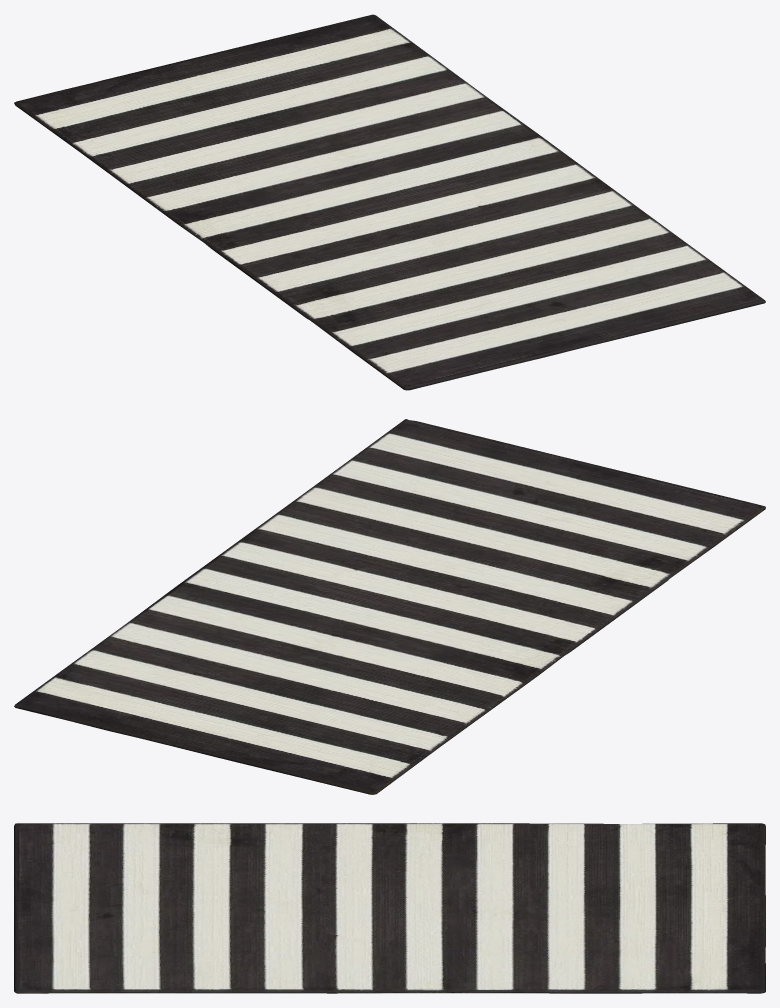
3 views of the same model, one above another, from view 1: azimuth 30°, elevation 25°; view 2: azimuth 150°, elevation 25°; view 3: azimuth 270°, elevation 25° (orthographic). The views are drawn at different scales.
Parts seen in each view (by area): view 1: ASY_ART_10597320_S01_NV01; view 2: ASY_ART_10597320_S01_NV01; view 3: ASY_ART_10597320_S01_NV01.
Part boxes in pixels (x1=…): ASY_ART_10597320_S01_NV01: x1=14, y1=14, x2=765, y2=390; ASY_ART_10597320_S01_NV01: x1=14, y1=419, x2=765, y2=794; ASY_ART_10597320_S01_NV01: x1=14, y1=823, x2=765, y2=993.
Size of the model in its own units: 0.7972 by 0.00632 by 1.5.
1 material, 1 textured.
